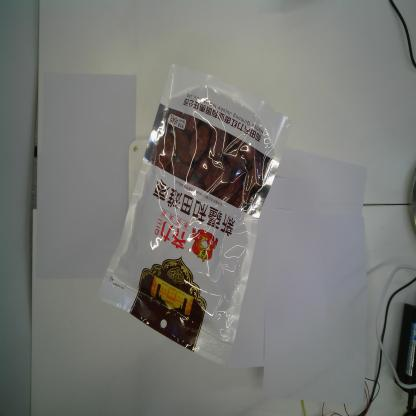Dried Food: (96, 61, 295, 367)
